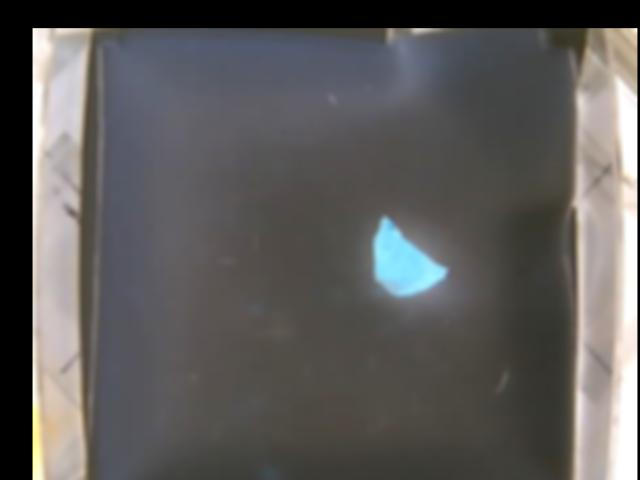Brisk: (372, 214, 448, 297)
